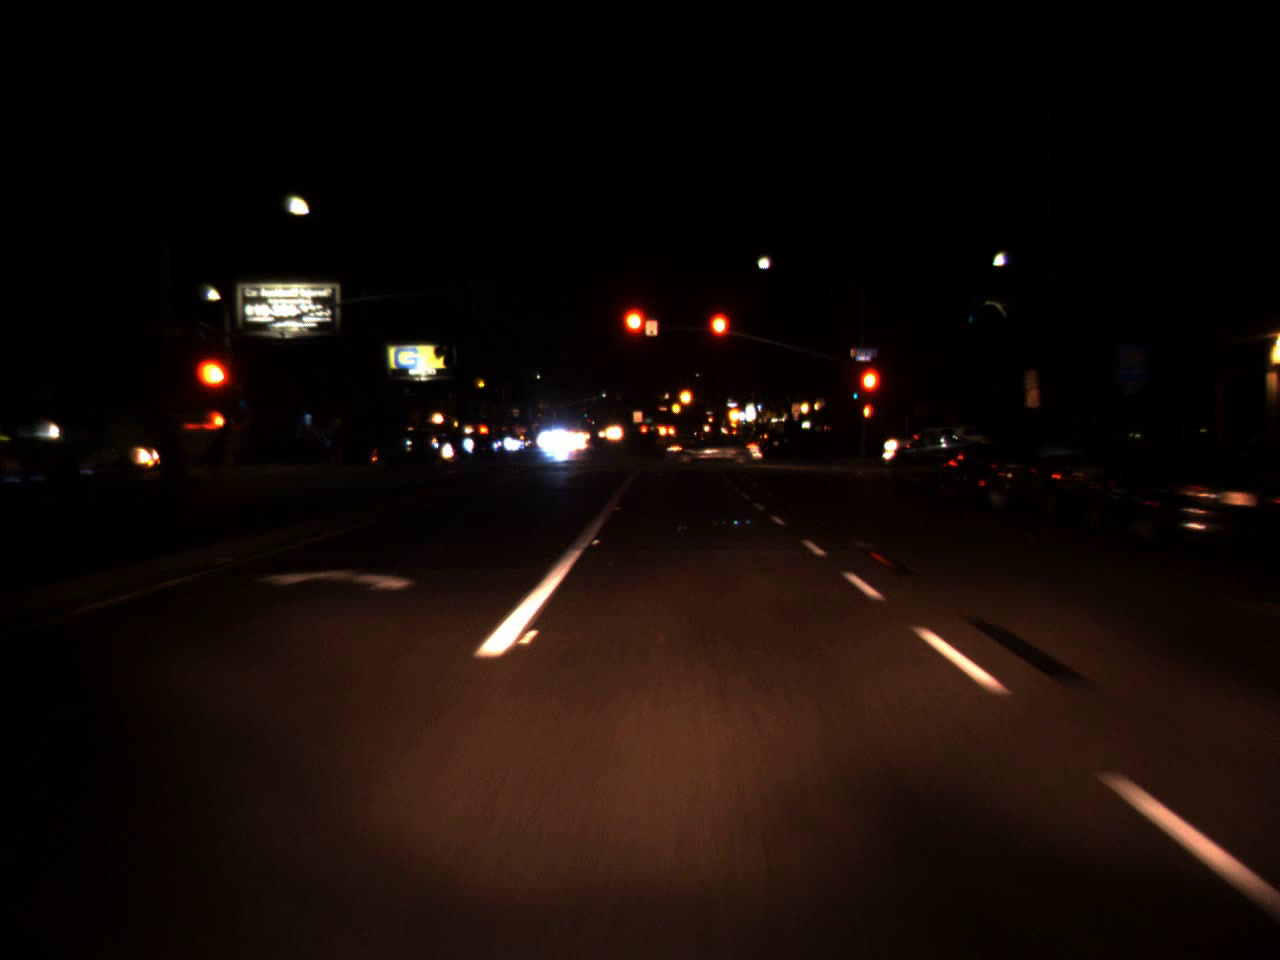stop: (198, 353, 240, 423), (618, 304, 651, 363), (856, 364, 884, 423), (706, 308, 731, 367)
warning: (678, 380, 693, 412), (728, 400, 740, 430), (671, 398, 680, 418)
